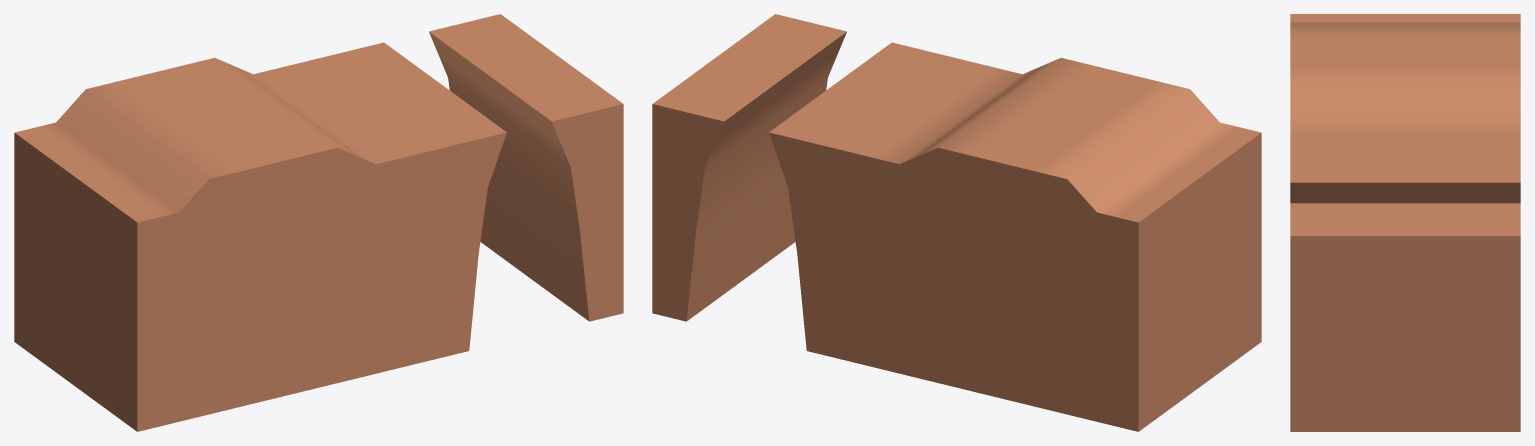
3 views of the same model, side by side, from view 1: azimuth 30°, elevation 25°; view 2: azimuth 150°, elevation 25°; view 3: azimuth 270°, elevation 25° (orthographic). The views are drawn at different scales.
Parts seen in each view (by area): view 1: pCube6; view 2: pCube6; view 3: pCube6.
Boxes of the visible parts, x1=… form: pCube6: x1=14, y1=14, x2=623, y2=431; pCube6: x1=652, y1=14, x2=1261, y2=431; pCube6: x1=1290, y1=14, x2=1520, y2=431.
Bounding box in the file's own units: 3.75 × 1.74 × 1.64.
